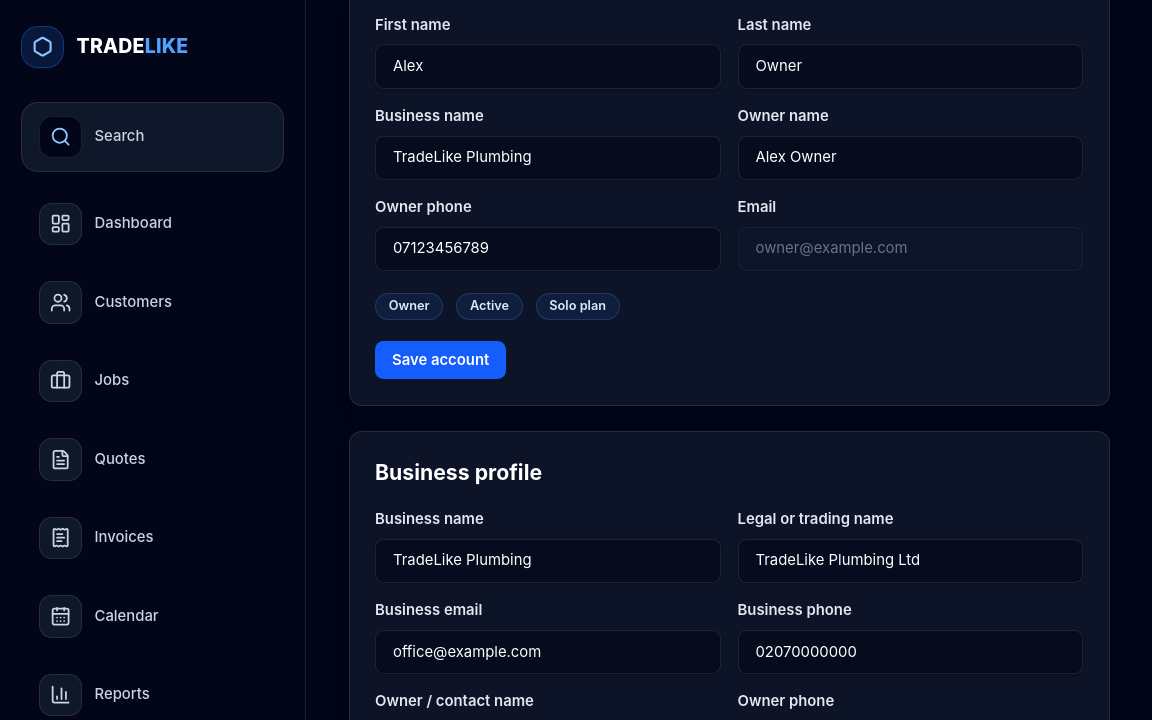
it: Settings › shows save success state when account settings save
(page scrolled)
Click the button "Save account" at (441, 360), box [375,341,506,380]
(page scrolled)
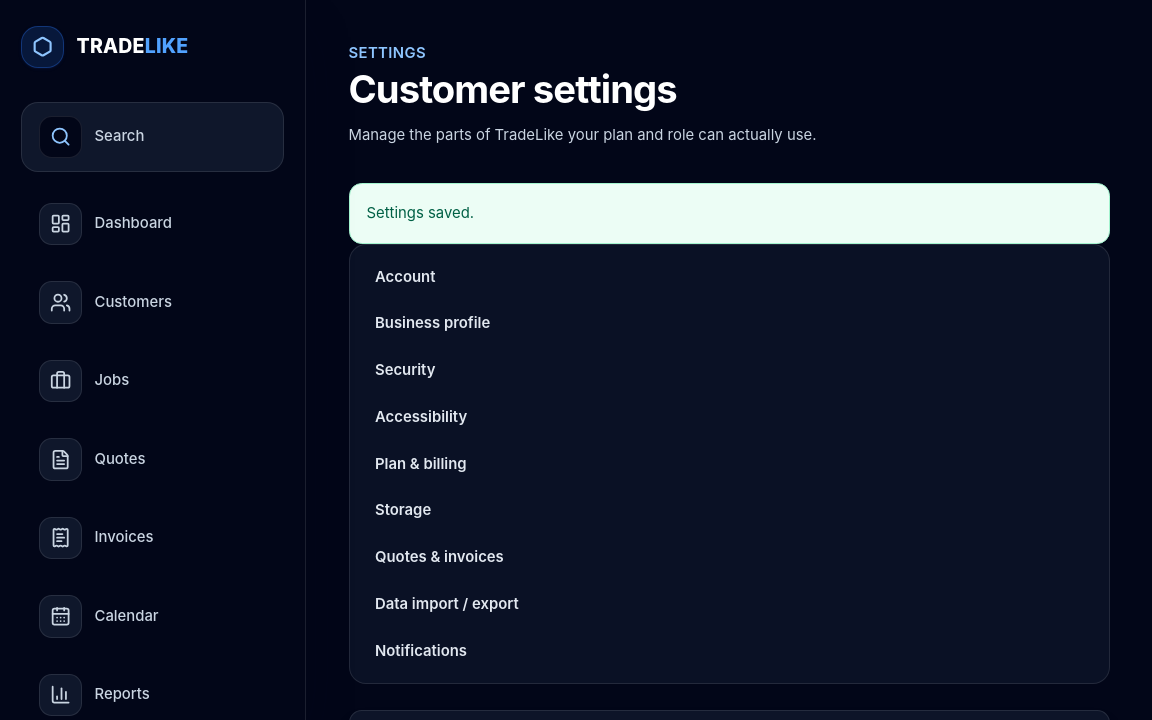
Check: the text "Settings saved." is shown, box [366,201,474,226]
